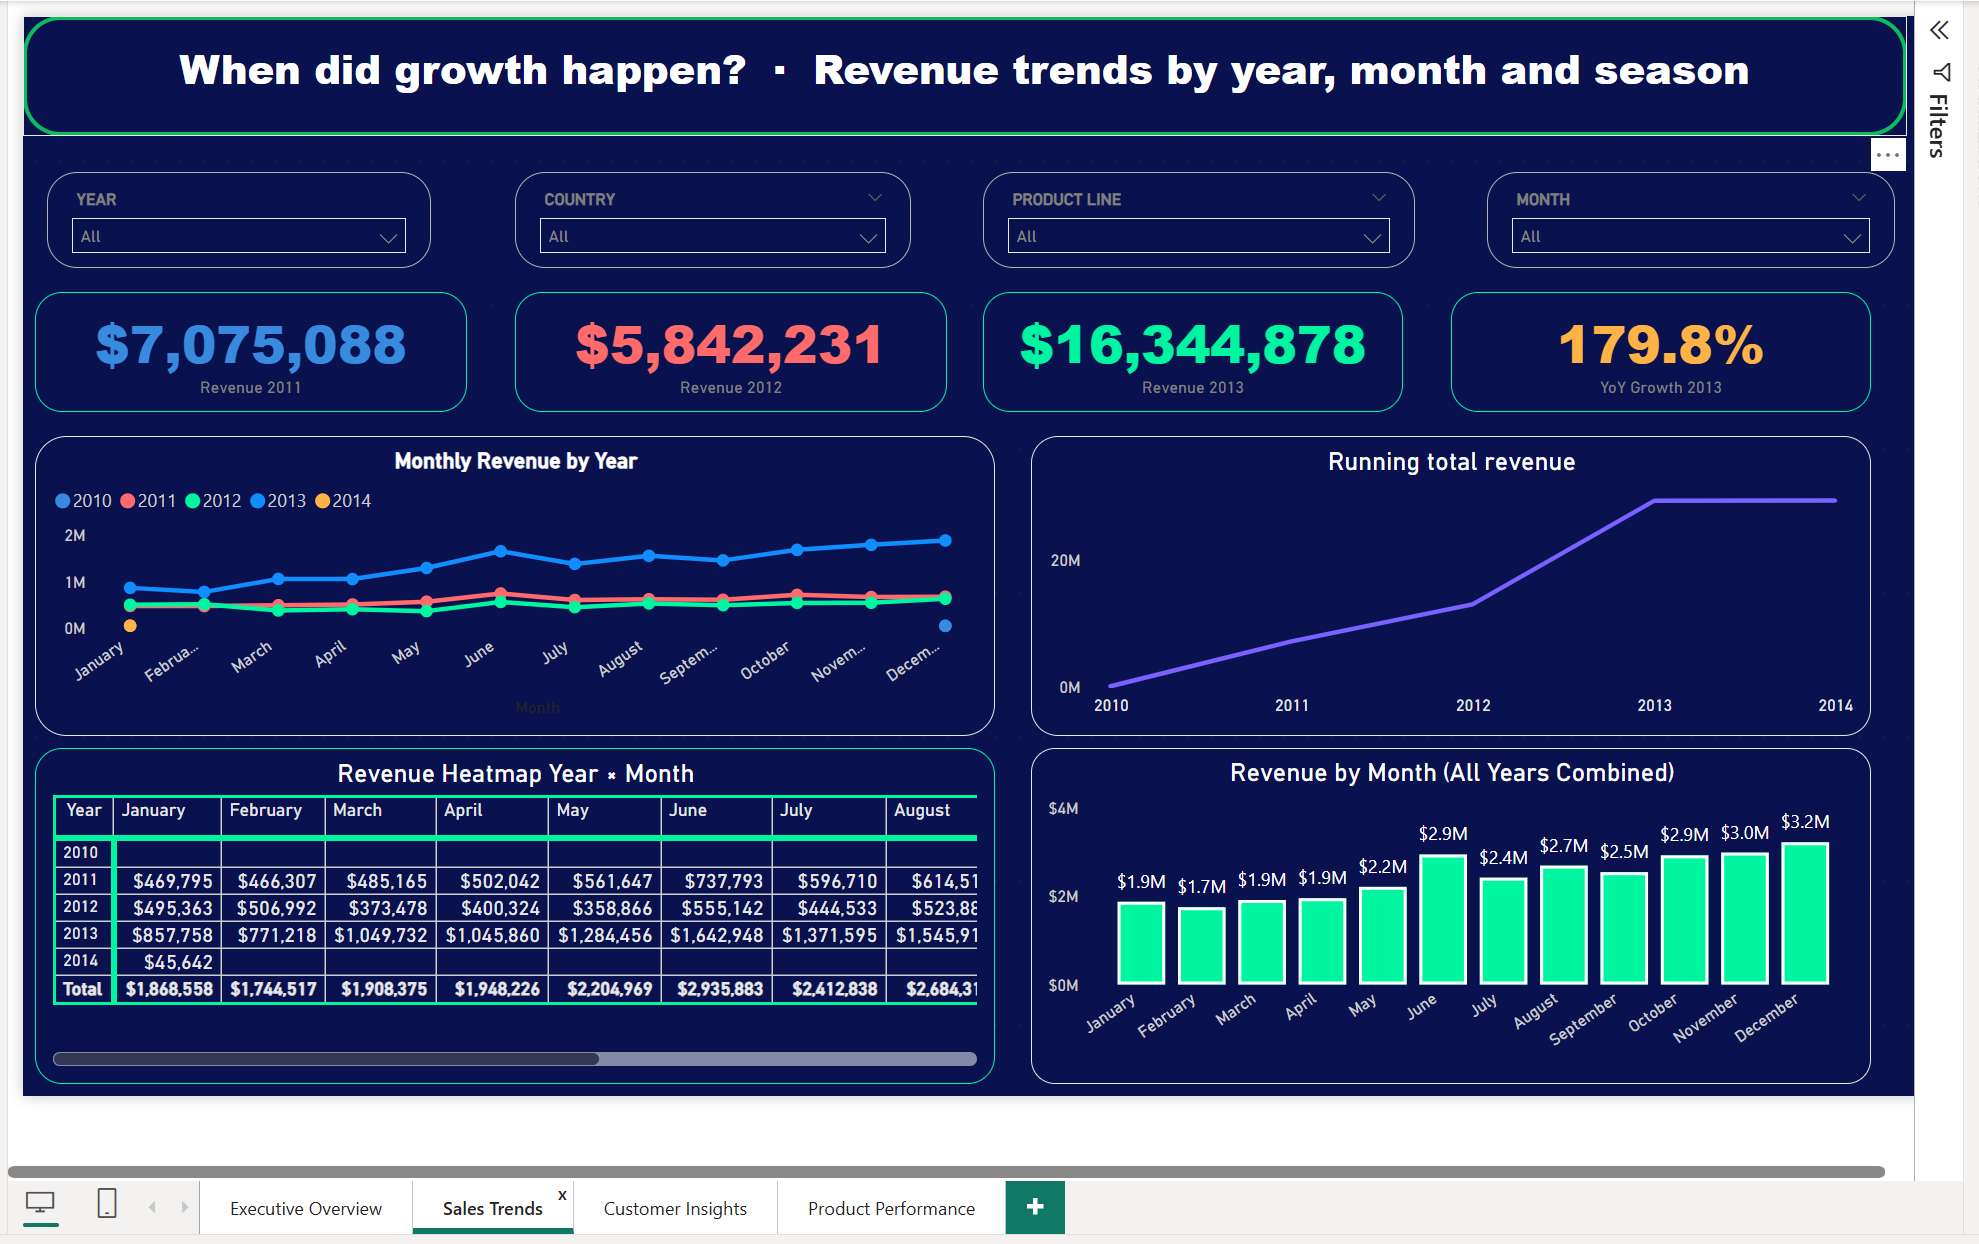

The dashboard page shown, as its layout file describes it:
{"tool":"powerbi","page":{"name":"Sales Trends","canvas":[1280,720],"ordinal":1},"visuals":[{"type":"textbox","box":[0,0,1256,80],"z":0},{"type":"slicer","fields":{"Values":["datawarehouse gold_fact_sales.order_date"]},"box":[16,104,256,64],"z":1000},{"type":"slicer","fields":{"Values":["datawarehouse gold_dim_customers.country"]},"box":[328,104,264,64],"z":2000},{"type":"slicer","fields":{"Values":["datawarehouse gold_dim_products.product_line"]},"box":[640,104,288,64],"z":3000},{"type":"slicer","fields":{"Values":["datawarehouse gold_fact_sales.order_date"]},"box":[976,104,272,64],"z":4000},{"type":"card","fields":{"Values":["Measures = {0}.Revenue 2011"]},"box":[8,184,288,80],"z":5000},{"type":"card","fields":{"Values":["Measures = {0}.Revenue 2012"]},"box":[328,184,288,80],"z":6000},{"type":"card","fields":{"Values":["Measures = {0}.Revenue 2013"]},"box":[640,184,280,80],"z":7000},{"type":"card","fields":{"Values":["Measures = {0}.YoY Growth 2013"]},"box":[952,184,280,80],"z":8000},{"type":"lineChart","title":"Monthly Revenue by Year","fields":{"Y":["Measures = {0}.Total Revenue"],"Category":["datawarehouse gold_fact_sales.order_date.Variation.Date Hierarchy.Month"],"Series":["datawarehouse gold_fact_sales.order_date.Variation.Date Hierarchy.Year"]},"box":[8,280,640,200],"z":9000},{"type":"lineChart","title":"Running total revenue","fields":{"Category":["datawarehouse gold_fact_sales.order_date.Variation.Date Hierarchy.Year"],"Y":["Measures = {0}.Running Total Revenue"]},"box":[672,280,560,200],"z":10000},{"type":"pivotTable","title":"Revenue Heatmap  Year × Month","fields":{"Rows":["datawarehouse gold_fact_sales.order_date.Variation.Date Hierarchy.Year"],"Columns":["datawarehouse gold_fact_sales.order_date.Variation.Date Hierarchy.Month"],"Values":["Measures = {0}.Total Revenue"]},"box":[8,488,640,224],"z":11000},{"type":"columnChart","title":"Revenue by Month (All Years Combined)","fields":{"Category":["datawarehouse gold_fact_sales.order_date.Variation.Date Hierarchy.Month"],"Y":["Measures = {0}.Total Revenue"]},"box":[672,488,560,224],"z":12000}]}

Visuals, with their boxes on the page's 1280x720 design canvas (x1, y1, x2, y2). These are canvas units, not pixel positions in the 1979x1244 screenshot, which may show the page scaled, cropped or inside an application window:
textbox: (left=0, top=0, right=1256, bottom=80)
slicer - datawarehouse gold_fact_sales.order_date: (left=16, top=104, right=272, bottom=168)
slicer - datawarehouse gold_dim_customers.country: (left=328, top=104, right=592, bottom=168)
slicer - datawarehouse gold_dim_products.product_line: (left=640, top=104, right=928, bottom=168)
slicer - datawarehouse gold_fact_sales.order_date: (left=976, top=104, right=1248, bottom=168)
card - Measures = {0}.Revenue 2011: (left=8, top=184, right=296, bottom=264)
card - Measures = {0}.Revenue 2012: (left=328, top=184, right=616, bottom=264)
card - Measures = {0}.Revenue 2013: (left=640, top=184, right=920, bottom=264)
card - Measures = {0}.YoY Growth 2013: (left=952, top=184, right=1232, bottom=264)
"Monthly Revenue by Year" lineChart: (left=8, top=280, right=648, bottom=480)
"Running total revenue" lineChart: (left=672, top=280, right=1232, bottom=480)
"Revenue Heatmap  Year × Month" pivotTable: (left=8, top=488, right=648, bottom=712)
"Revenue by Month (All Years Combined)" columnChart: (left=672, top=488, right=1232, bottom=712)
